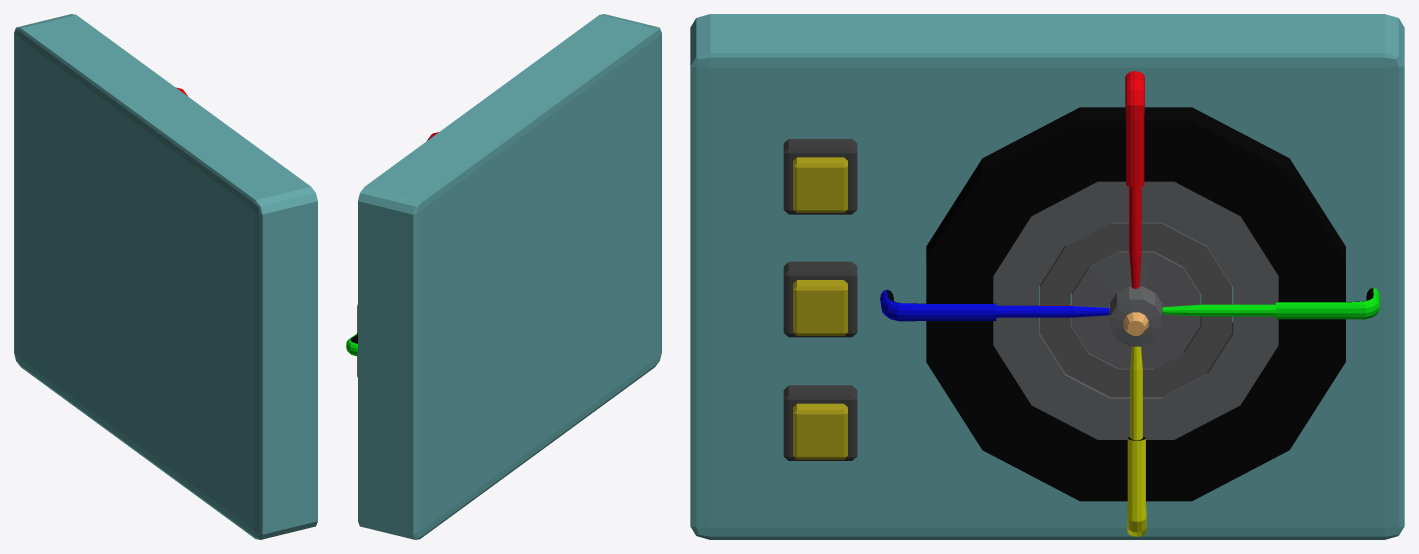
The model's file is Rotating Charger 1.fbx.
3 views of the same model, side by side, from view 1: azimuth 30°, elevation 25°; view 2: azimuth 150°, elevation 25°; view 3: azimuth 270°, elevation 25° (orthographic). The views are drawn at different scales.
Parts seen in each view (by area): view 1: Cube; view 2: Cube; view 3: Cube, Cylinder.017, Cylinder.004, Cylinder.007, Cylinder.011, Cube.004, Cube.005, Cube.003, Cylinder.015.
Boxes of the visible parts, x1,y1,x2,y2 form: Cube: (14, 14, 317, 539); Cube: (358, 14, 661, 539); Cube: (690, 14, 1404, 539); Cylinder.017: (880, 71, 1380, 536); Cylinder.004: (993, 181, 1278, 440); Cylinder.007: (1039, 222, 1233, 400); Cylinder.011: (1072, 251, 1200, 370); Cube.004: (783, 261, 857, 337); Cube.005: (783, 385, 857, 460); Cube.003: (783, 139, 857, 214); Cylinder.015: (1110, 286, 1161, 346).
Size of the model in its own units: 107 by 338 by 449.
